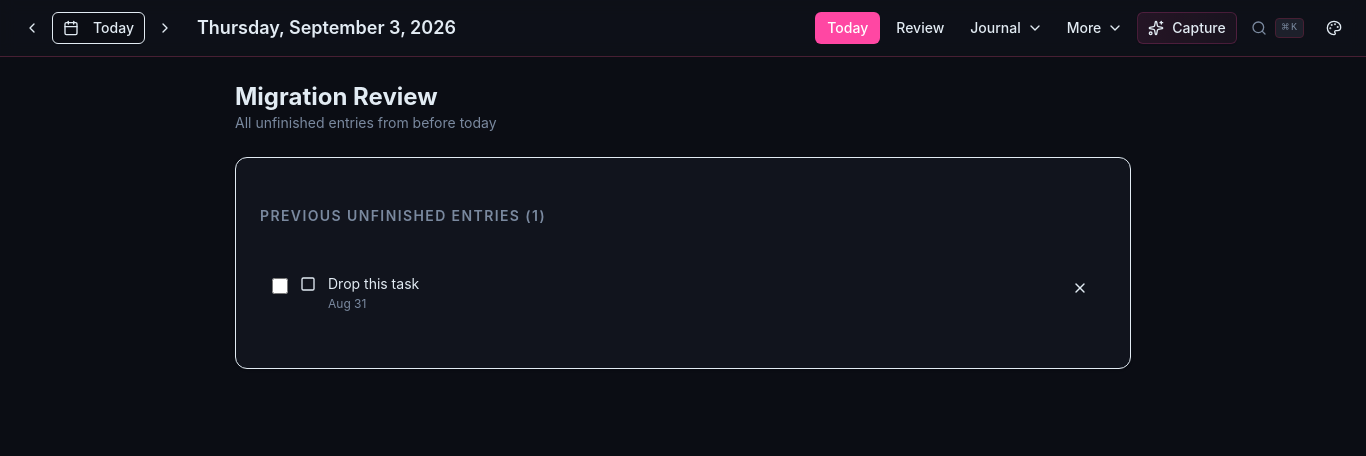
Scenario: mutation failure recovery › awaits a migration kill and exposes retry when it fails
Click the button named "Kill Drop this task": (1080, 288) 1066,274 -> 1094,302
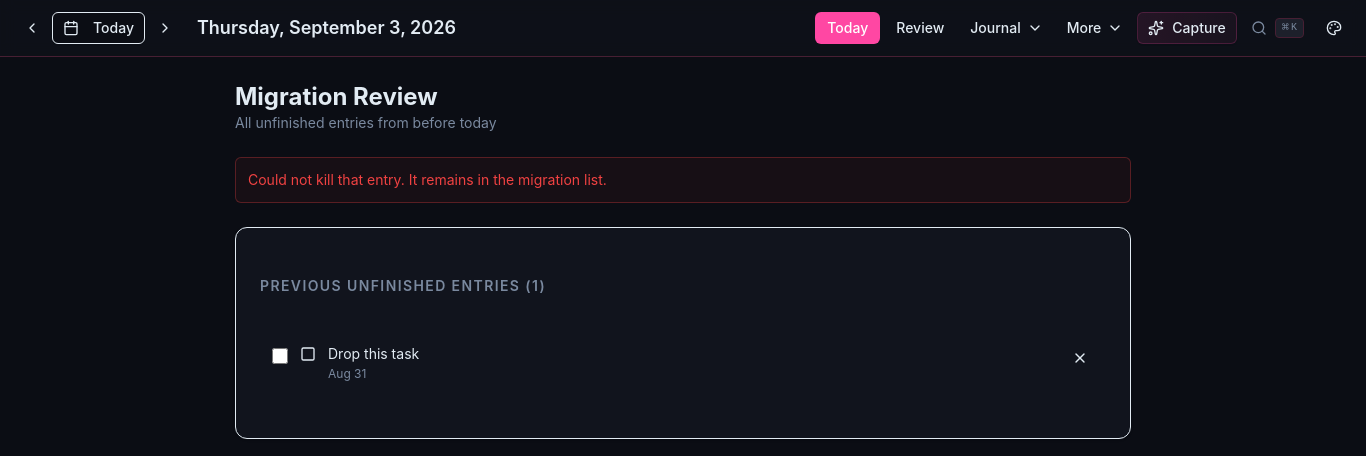
Expected: the message shows "Could not kill", 248,171 -> 607,188
Expected: the button named "Try killing Drop this task again" is shown, 1066,344 -> 1094,372
